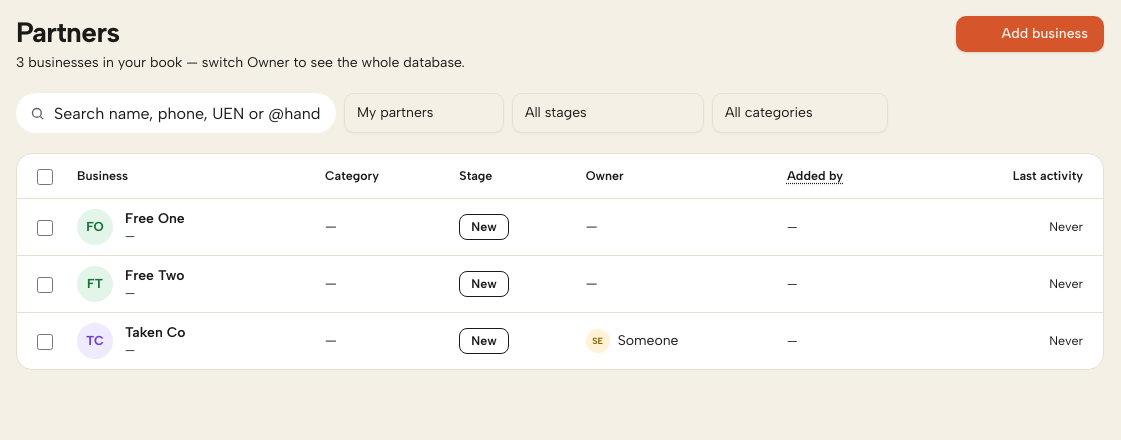
Test: claims the selection and reports a partial result honestly
The width and height of the screenshot is (1121, 440).
Click the checkbox named "Select Free One" at (45,228), box [37, 220, 53, 236]
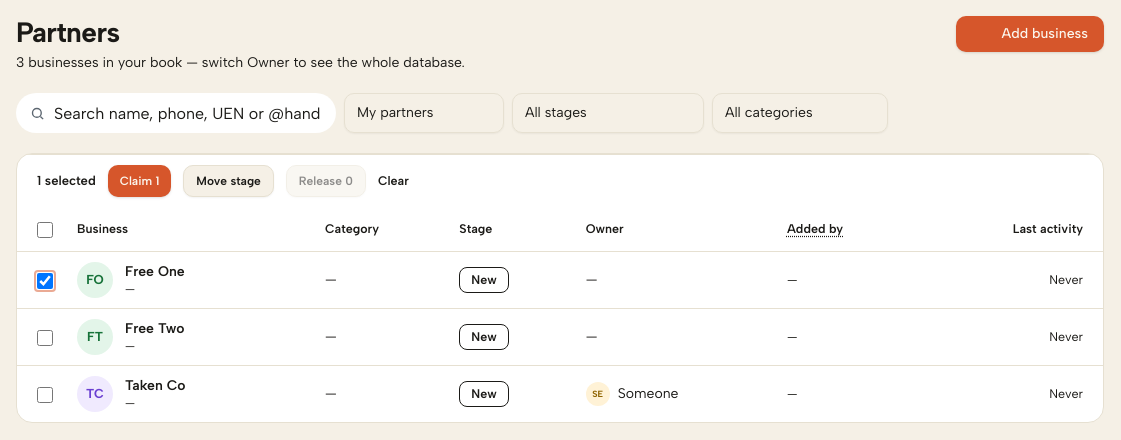
Click the checkbox named "Select Free Two" at (45,338), box [37, 330, 53, 346]
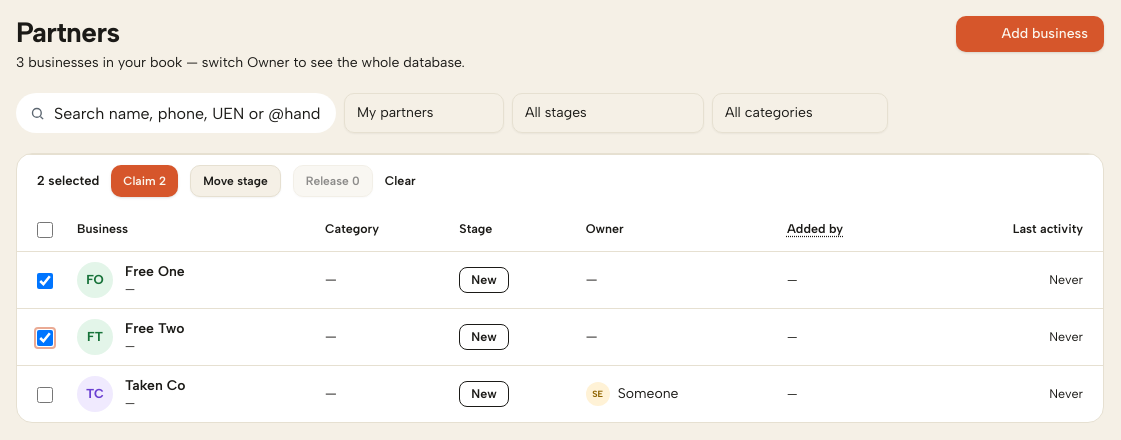
Click the button "Claim 2" at (145,181), box [111, 165, 178, 197]
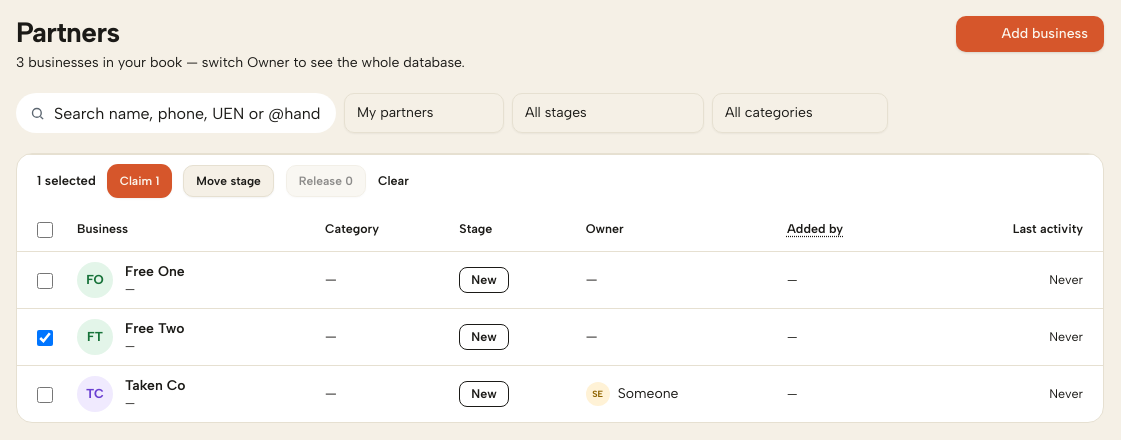
Expected: the checkbox named "Select Free Two" is checked, [37, 330, 53, 346]
Expected: the text "1" is shown, [37, 173, 41, 188]
